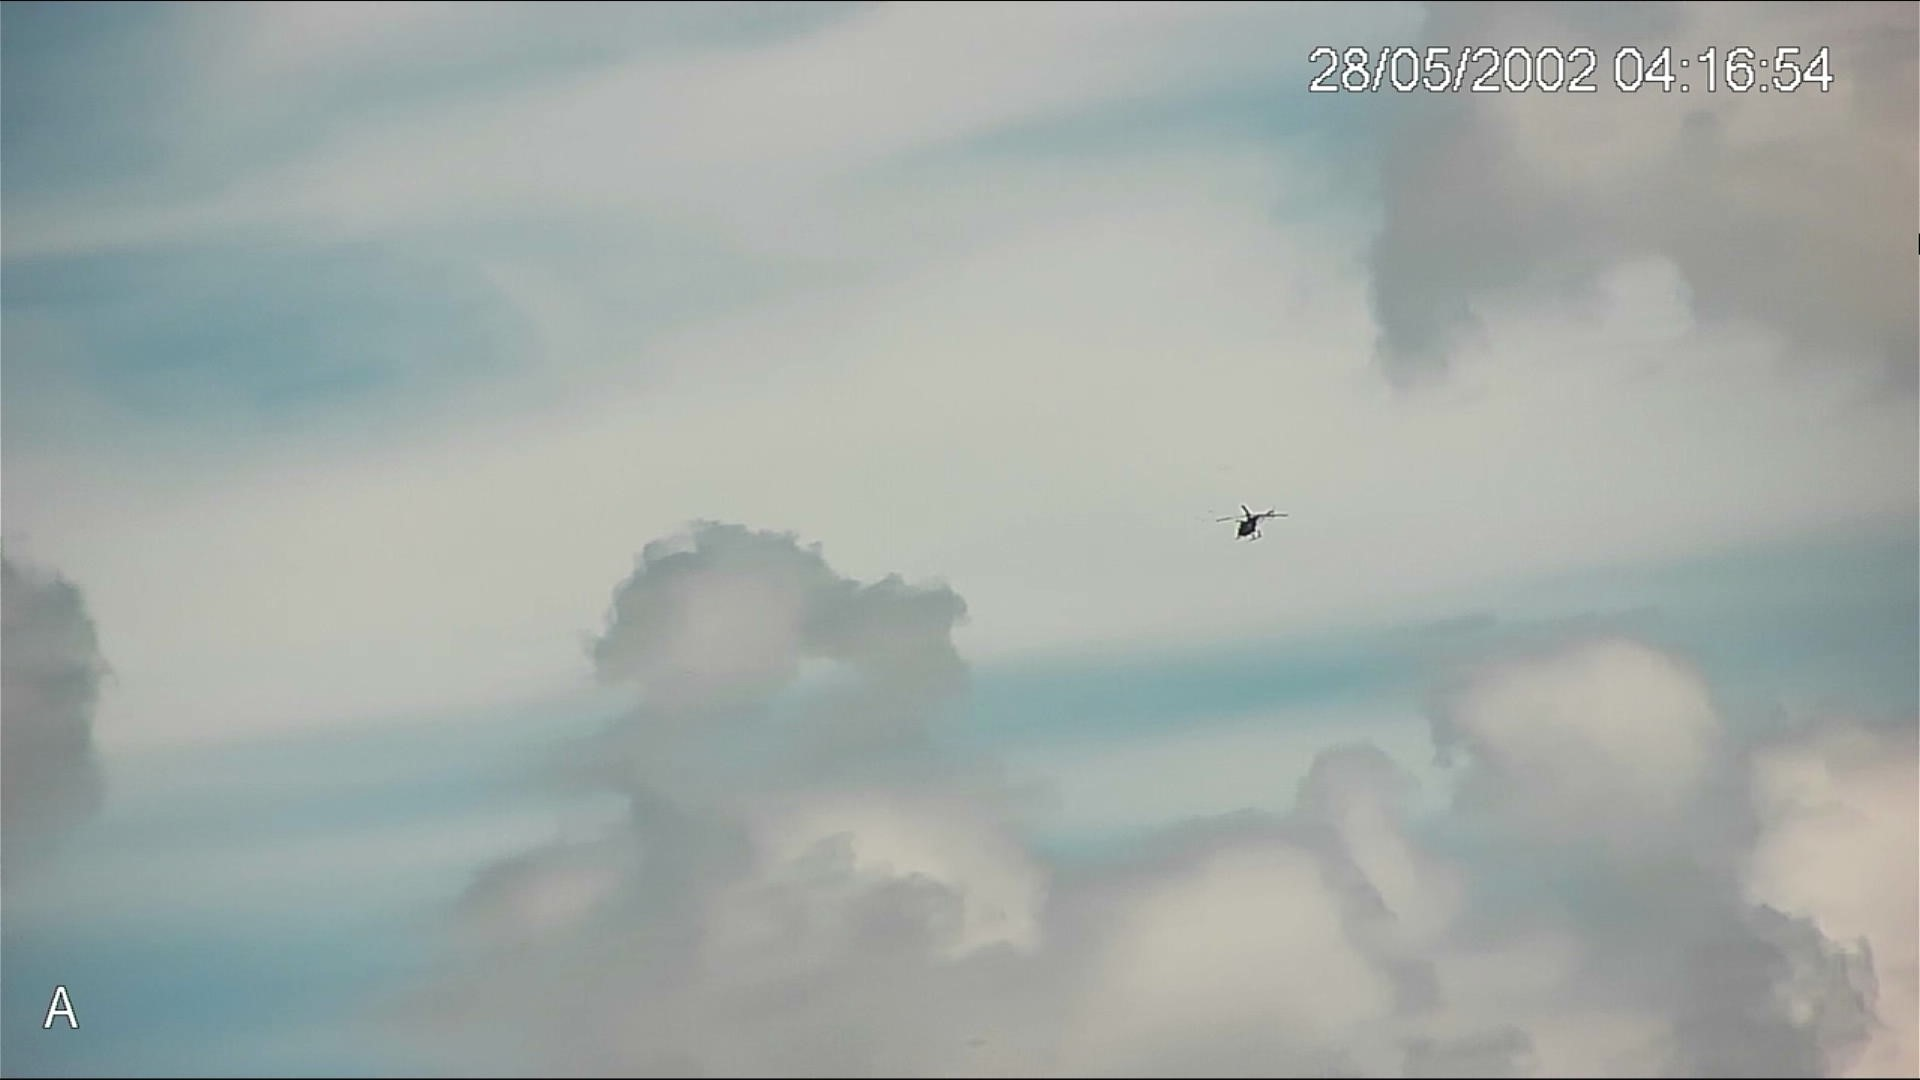SU_30: (1222, 505, 1276, 543)
